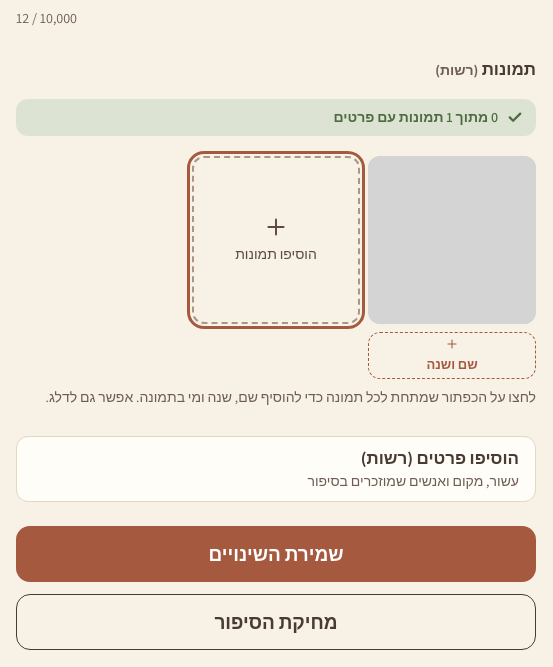
Test: editing a story › removes an existing photo and uploads a new one
Earlier steps of the test are not shown.
(page scrolled)
Click the button "שמירת השינויים": (276, 554) 16,526 -> 536,582
(page scrolled)
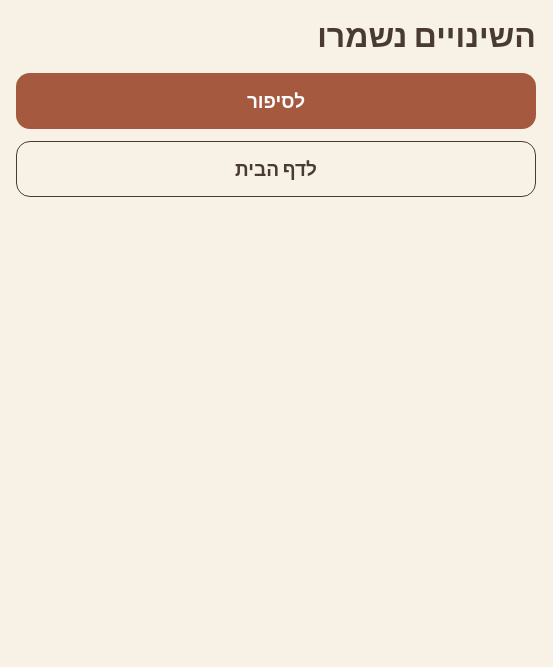
Check: the heading "השינויים נשמרו" is shown, box 317,14 -> 536,56
